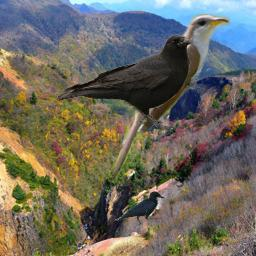Crow: (56, 34, 191, 131), (115, 191, 164, 226)
Cuckoo: (106, 14, 230, 186)
